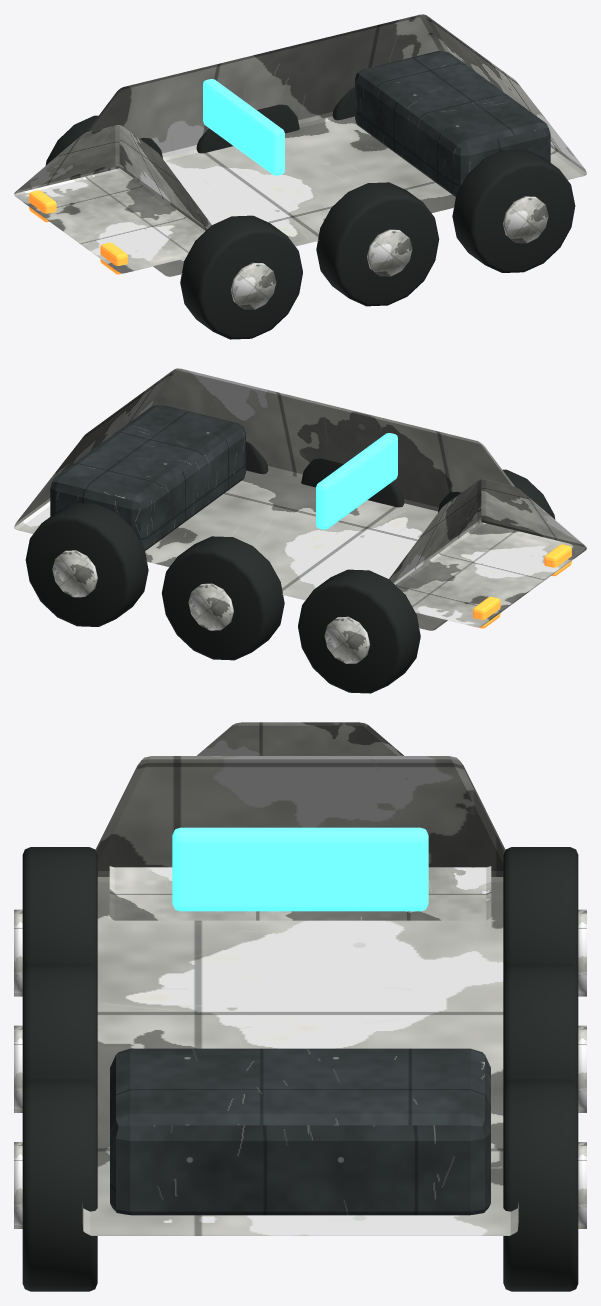
The model's file is scout_car_body.glb.
3 views of the same model, one above another, from view 1: azimuth 30°, elevation 25°; view 2: azimuth 150°, elevation 25°; view 3: azimuth 270°, elevation 25° (orthographic). The views are drawn at different scales.
Visible parts, largest first — view 1: scout_car_body_team_primary, scout_car_body_rubber, scout_car_body_team_accent, scout_car_body_armor_dark, scout_car_body_glass_emissive, scout_car_body_warning_emissive; view 2: scout_car_body_team_primary, scout_car_body_rubber, scout_car_body_team_accent, scout_car_body_armor_dark, scout_car_body_glass_emissive, scout_car_body_warning_emissive; view 3: scout_car_body_team_primary, scout_car_body_rubber, scout_car_body_armor_dark, scout_car_body_glass_emissive, scout_car_body_team_accent.
Part boxes in pixels (bbox=[...]): scout_car_body_team_primary: bbox=[86, 14, 586, 276]; scout_car_body_rubber: bbox=[45, 87, 575, 339]; scout_car_body_team_accent: bbox=[14, 125, 548, 309]; scout_car_body_armor_dark: bbox=[355, 51, 550, 196]; scout_car_body_glass_emissive: bbox=[203, 79, 284, 175]; scout_car_body_warning_emissive: bbox=[29, 190, 127, 274]; scout_car_body_team_primary: bbox=[14, 368, 514, 630]; scout_car_body_rubber: bbox=[25, 441, 555, 693]; scout_car_body_team_accent: bbox=[52, 479, 586, 663]; scout_car_body_armor_dark: bbox=[50, 405, 245, 550]; scout_car_body_glass_emissive: bbox=[316, 433, 397, 529]; scout_car_body_warning_emissive: bbox=[473, 544, 571, 628]; scout_car_body_team_primary: bbox=[82, 756, 518, 1235]; scout_car_body_rubber: bbox=[22, 847, 578, 1291]; scout_car_body_armor_dark: bbox=[110, 1048, 490, 1215]; scout_car_body_glass_emissive: bbox=[172, 827, 428, 911]; scout_car_body_team_accent: bbox=[14, 722, 586, 1228].
Bounding box in the file's own units: 2.27 × 0.7782 × 1.4.
6 materials, 3 textured.
